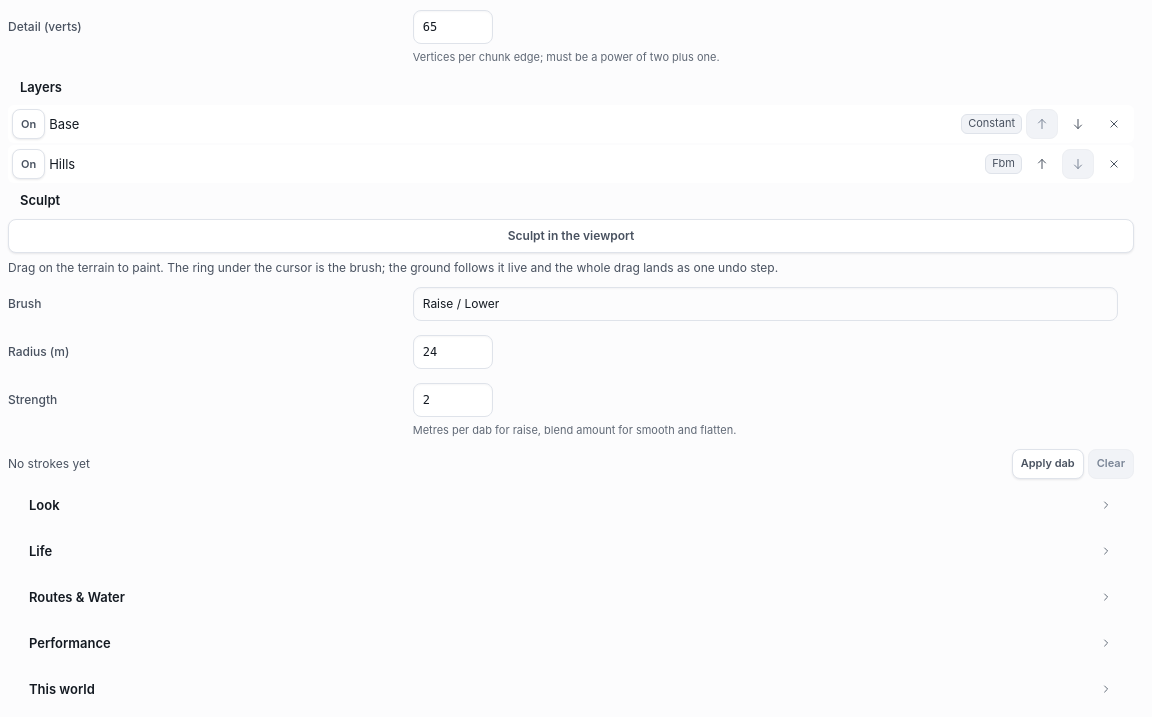
Test: the profiling readout reports measurements, and says so when over budget
(page scrolled)
Expected: the element with test id "terrain-layers" is shown, [8,105,1134,183]
Click the button with test id "terrain-section-perf" at (70, 643), box [20,629,1122,659]
(page scrolled)
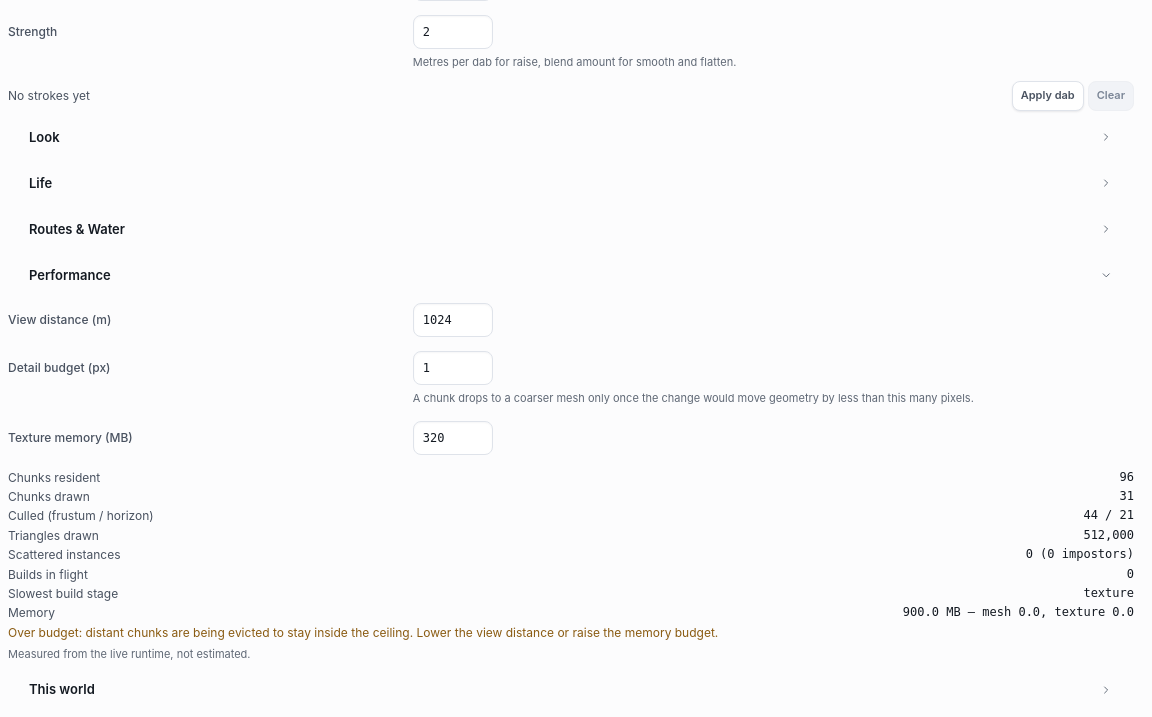
Result: the element with test id "terrain-stats" shows "96" at [1120,470,1134,484]
Result: the element with test id "terrain-stats" shows "512,000" at [1083,528,1134,542]
Result: the element with test id "terrain-stats" shows "texture" at [1083,586,1134,600]
